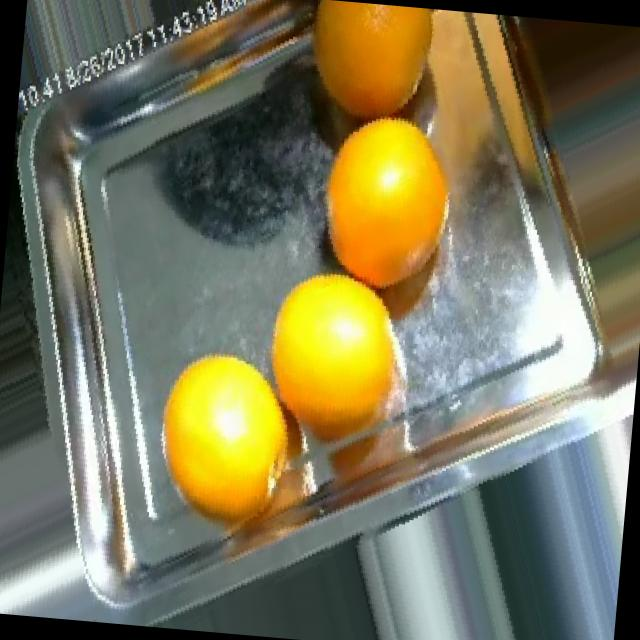Fruit: (243, 245, 450, 472), (132, 325, 318, 555)
